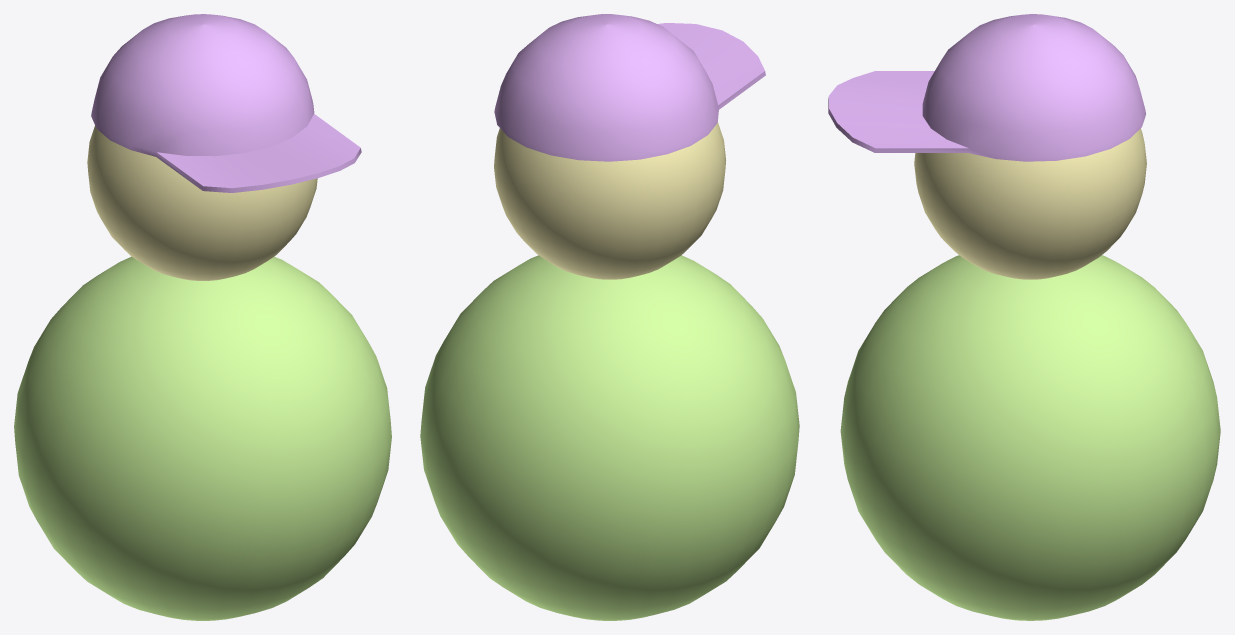
The model's file is Gosn8.fbx.
3 views of the same model, side by side, from view 1: azimuth 30°, elevation 25°; view 2: azimuth 150°, elevation 25°; view 3: azimuth 270°, elevation 25° (orthographic).
Parts seen in each view (by area): view 1: cika_7_1, cika_7_1.002, cika_7_1.001; view 2: cika_7_1, cika_7_1.002, cika_7_1.001; view 3: cika_7_1, cika_7_1.002, cika_7_1.001.
Part boxes in pixels (bbox=[...]): cika_7_1: bbox=[14, 256, 391, 620]; cika_7_1.002: bbox=[91, 14, 361, 192]; cika_7_1.001: bbox=[87, 125, 317, 280]; cika_7_1: bbox=[420, 255, 799, 620]; cika_7_1.002: bbox=[494, 14, 765, 161]; cika_7_1.001: bbox=[494, 122, 725, 279]; cika_7_1: bbox=[840, 255, 1220, 620]; cika_7_1.002: bbox=[828, 14, 1145, 161]; cika_7_1.001: bbox=[914, 128, 1146, 279].
Size of the model in its own units: 5301 by 8915 by 5474.
